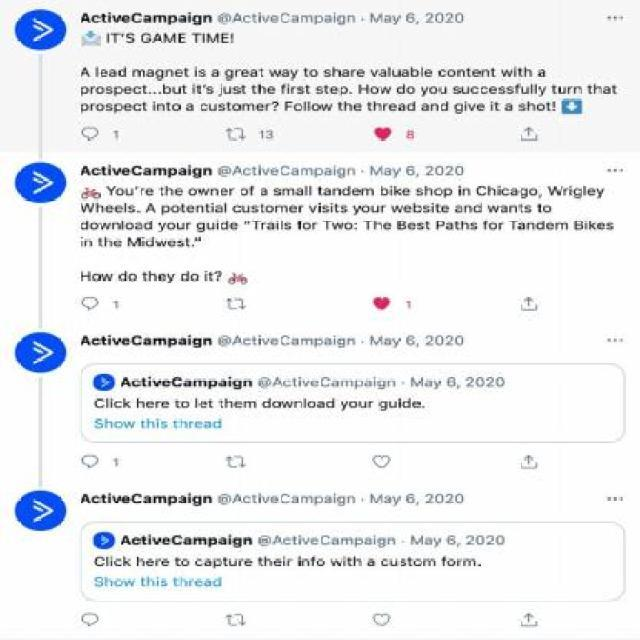0: (434, 166, 444, 177), (496, 534, 504, 546), (435, 12, 443, 23), (455, 12, 463, 23), (455, 166, 463, 177), (476, 377, 484, 388), (496, 376, 504, 387), (435, 493, 443, 504), (455, 493, 463, 504), (455, 336, 463, 346), (435, 336, 443, 344), (476, 536, 484, 544)
1: (112, 300, 119, 309), (112, 458, 119, 466), (258, 130, 264, 139), (406, 300, 412, 309), (114, 130, 118, 139)
2: (466, 534, 474, 546), (486, 534, 494, 546), (425, 12, 433, 23), (445, 12, 453, 23), (425, 166, 433, 177), (445, 166, 453, 177), (425, 493, 433, 504), (445, 493, 453, 504), (467, 377, 475, 388), (487, 376, 495, 387), (425, 336, 433, 346), (445, 336, 453, 346)
3: (265, 130, 273, 139)
6: (406, 12, 416, 23), (447, 534, 456, 546), (407, 166, 415, 177), (448, 377, 456, 388), (407, 336, 415, 346), (407, 494, 415, 504)
8: (407, 130, 415, 139)
A: (79, 166, 92, 177), (271, 377, 284, 388), (120, 376, 132, 387), (79, 494, 92, 504), (152, 33, 163, 44), (80, 67, 91, 78), (232, 166, 242, 177), (146, 202, 156, 213), (80, 336, 91, 346), (232, 336, 243, 346), (119, 536, 132, 544), (142, 14, 152, 24), (178, 14, 188, 24), (146, 68, 156, 78), (232, 494, 242, 504), (80, 13, 91, 22), (142, 168, 153, 177), (291, 14, 300, 24), (383, 14, 392, 24), (109, 68, 118, 78), (211, 68, 220, 78), (378, 68, 387, 78), (400, 68, 409, 78), (294, 187, 304, 196), (218, 537, 228, 546), (232, 13, 242, 22), (272, 536, 283, 544), (421, 102, 430, 111), (504, 103, 513, 112), (178, 168, 187, 177), (291, 167, 300, 176), (323, 167, 332, 176), (214, 204, 223, 213), (183, 537, 192, 546), (363, 537, 372, 546), (424, 537, 433, 546), (250, 68, 258, 78), (602, 86, 612, 94), (182, 379, 192, 387), (218, 379, 228, 387), (178, 496, 188, 504), (281, 70, 290, 78), (341, 70, 350, 78), (186, 102, 194, 111), (398, 102, 406, 111), (384, 168, 392, 177), (260, 187, 268, 196), (323, 187, 331, 196), (510, 188, 518, 197), (454, 204, 462, 213), (500, 204, 508, 213), (134, 222, 143, 230), (517, 222, 526, 230), (143, 338, 152, 346), (178, 338, 187, 346), (291, 338, 300, 346), (143, 495, 152, 503), (290, 495, 299, 503), (331, 538, 340, 546), (203, 558, 212, 566), (324, 15, 332, 23), (537, 70, 545, 78), (267, 222, 275, 230), (445, 222, 453, 230), (324, 338, 332, 346), (384, 338, 392, 346), (364, 379, 372, 387), (424, 379, 432, 387), (324, 495, 332, 503), (384, 496, 392, 504), (367, 558, 375, 566), (204, 578, 212, 586), (203, 421, 212, 428), (332, 379, 339, 387), (317, 401, 325, 408)
B: (162, 84, 172, 95), (398, 220, 407, 231), (574, 220, 583, 231), (380, 186, 388, 197), (414, 202, 422, 213), (411, 67, 418, 78)
C: (319, 534, 332, 546), (130, 12, 144, 23), (130, 493, 144, 504), (475, 186, 488, 197), (92, 398, 106, 408), (279, 12, 290, 23), (279, 166, 290, 177), (319, 376, 330, 387), (280, 493, 291, 504), (94, 556, 105, 567), (130, 336, 142, 346), (172, 534, 182, 546), (132, 166, 142, 177), (172, 376, 182, 387), (91, 14, 100, 24), (438, 68, 447, 78), (232, 204, 242, 213), (281, 336, 290, 346), (242, 15, 252, 23), (132, 86, 142, 94), (200, 102, 208, 111), (91, 495, 100, 503), (283, 537, 291, 546), (113, 558, 122, 566), (194, 558, 203, 566), (480, 86, 488, 94), (133, 103, 141, 111), (92, 338, 100, 346), (243, 338, 251, 346), (132, 379, 140, 387), (283, 379, 291, 387), (243, 495, 251, 503), (132, 537, 140, 545), (91, 168, 100, 175), (471, 86, 478, 94), (243, 168, 251, 175), (502, 188, 509, 196), (114, 401, 122, 408), (381, 558, 388, 566)
D: (212, 576, 222, 587), (181, 270, 190, 282), (262, 398, 272, 408), (402, 398, 412, 408), (212, 418, 222, 428), (80, 219, 89, 230), (144, 219, 153, 230), (220, 219, 229, 230), (407, 100, 415, 112), (118, 270, 126, 282), (118, 67, 126, 78), (342, 186, 350, 197), (474, 202, 482, 213), (537, 220, 545, 231), (146, 236, 154, 247), (397, 83, 405, 94), (441, 100, 448, 112), (327, 398, 335, 408)
E: (178, 32, 187, 43), (270, 14, 279, 24), (174, 68, 183, 78), (241, 68, 250, 78), (388, 102, 398, 111), (144, 187, 154, 196), (288, 204, 298, 213), (113, 238, 122, 248), (167, 238, 176, 248), (270, 168, 279, 177), (174, 188, 183, 197), (402, 188, 411, 197), (587, 188, 596, 197), (105, 204, 114, 213), (114, 204, 123, 213), (187, 204, 196, 213), (472, 68, 480, 78), (488, 86, 498, 94), (357, 68, 365, 78), (424, 69, 433, 77), (123, 86, 132, 94), (267, 86, 276, 94), (329, 86, 338, 94), (123, 103, 132, 111), (256, 103, 264, 112), (354, 102, 362, 111), (477, 102, 485, 111), (122, 167, 130, 176), (220, 188, 228, 197), (352, 188, 360, 197), (158, 273, 167, 281), (270, 338, 279, 346), (121, 495, 130, 503), (270, 495, 279, 503), (162, 537, 170, 546), (161, 558, 170, 566), (244, 558, 253, 566), (273, 558, 282, 566), (194, 579, 203, 587), (220, 33, 228, 42), (122, 15, 130, 23), (100, 70, 108, 78), (404, 205, 412, 213), (230, 222, 238, 230), (383, 222, 391, 230), (408, 222, 416, 230), (547, 222, 555, 230), (597, 222, 605, 230), (122, 338, 130, 346), (162, 379, 170, 387), (310, 379, 318, 387), (310, 538, 318, 546), (146, 558, 154, 566), (234, 401, 243, 408), (412, 401, 421, 408), (194, 421, 203, 428), (441, 204, 448, 213), (146, 401, 154, 408), (162, 401, 170, 408), (200, 401, 208, 408)
F: (285, 100, 293, 112), (280, 83, 286, 94), (514, 83, 520, 94), (296, 219, 302, 230), (482, 219, 488, 230), (311, 556, 317, 566), (250, 186, 255, 197), (442, 556, 446, 566)
G: (232, 378, 243, 391), (140, 32, 152, 43), (192, 14, 202, 26), (154, 69, 164, 80), (378, 400, 388, 411), (232, 537, 242, 548), (192, 168, 202, 178), (192, 338, 202, 348), (192, 496, 202, 506), (224, 69, 233, 80), (454, 103, 463, 114), (338, 14, 346, 26), (197, 222, 206, 232), (378, 379, 386, 390), (378, 537, 386, 548), (338, 168, 346, 178), (520, 188, 528, 198), (574, 188, 582, 198), (338, 338, 346, 348), (338, 496, 346, 506)
H: (80, 270, 91, 282), (358, 84, 369, 95), (373, 100, 381, 112), (528, 100, 536, 112), (165, 184, 173, 196), (149, 270, 157, 282), (332, 67, 340, 78), (524, 67, 532, 78), (258, 84, 266, 95), (594, 84, 602, 95), (344, 100, 352, 111), (424, 186, 432, 197), (488, 186, 496, 197), (96, 202, 104, 213), (104, 236, 112, 247), (104, 576, 112, 587), (147, 576, 155, 587), (374, 220, 382, 231), (137, 398, 145, 408), (104, 418, 112, 428), (179, 418, 187, 428), (137, 556, 145, 566), (264, 556, 272, 566), (353, 556, 361, 566), (461, 219, 468, 230), (147, 419, 155, 428), (180, 577, 188, 586), (225, 398, 232, 408)
I: (296, 376, 302, 387), (464, 100, 468, 112), (108, 164, 112, 176), (188, 334, 192, 346), (148, 534, 152, 546), (188, 166, 192, 177), (584, 219, 588, 230), (228, 376, 232, 387), (108, 492, 112, 503), (188, 493, 192, 504), (228, 534, 232, 544), (282, 556, 286, 566), (205, 270, 208, 282), (195, 67, 198, 78), (514, 67, 517, 78), (192, 84, 195, 95), (286, 84, 289, 95), (153, 100, 156, 111), (333, 166, 336, 177), (373, 376, 376, 387), (333, 493, 336, 504), (110, 556, 113, 567), (156, 577, 159, 588), (110, 398, 113, 408), (497, 187, 500, 196), (276, 220, 279, 229), (106, 33, 109, 42), (202, 33, 205, 42), (492, 100, 494, 112), (108, 334, 110, 346), (258, 334, 260, 346), (334, 334, 336, 346), (298, 534, 300, 546), (108, 12, 110, 23), (188, 12, 190, 23), (258, 12, 260, 23), (334, 12, 336, 23), (258, 166, 260, 177), (390, 186, 392, 197), (458, 186, 460, 197), (212, 202, 214, 213), (318, 202, 320, 213), (330, 202, 332, 213), (432, 202, 434, 213), (216, 220, 218, 231), (570, 186, 572, 197), (148, 376, 150, 387), (258, 493, 260, 504), (344, 556, 346, 567), (398, 398, 400, 408), (156, 418, 158, 428), (298, 556, 300, 566), (142, 237, 144, 246), (374, 536, 376, 544), (81, 236, 82, 247)
J: (218, 84, 222, 96)
K: (589, 219, 597, 230), (123, 398, 131, 408), (394, 187, 402, 196), (123, 557, 131, 566)
L: (304, 187, 308, 196), (304, 100, 307, 112), (307, 100, 310, 112), (420, 67, 423, 78), (530, 84, 533, 95), (534, 84, 537, 95), (583, 186, 586, 197), (124, 202, 127, 213), (224, 202, 227, 213), (304, 397, 307, 408), (195, 398, 198, 408), (280, 220, 283, 229), (105, 557, 108, 566), (96, 67, 98, 78), (388, 67, 390, 78), (310, 187, 312, 196), (122, 220, 124, 229), (106, 398, 108, 407)
M: (410, 534, 424, 546), (369, 12, 383, 23), (206, 33, 220, 44), (410, 376, 424, 387), (153, 14, 167, 24), (370, 166, 382, 177), (151, 337, 167, 345), (153, 495, 169, 503), (274, 204, 288, 213), (162, 34, 176, 43), (127, 238, 141, 247), (370, 336, 382, 346), (300, 15, 314, 23), (132, 69, 146, 77), (242, 103, 256, 111), (153, 168, 169, 175), (300, 168, 314, 176), (282, 188, 296, 196), (554, 222, 568, 230), (300, 338, 314, 346), (193, 379, 207, 387), (340, 379, 354, 387), (300, 496, 314, 504), (192, 538, 206, 546), (422, 558, 436, 566), (462, 558, 476, 566), (370, 494, 382, 503), (361, 188, 374, 196), (243, 401, 257, 408), (340, 538, 352, 546)
N: (203, 14, 212, 24), (203, 168, 212, 177), (508, 205, 518, 213), (164, 70, 173, 78), (210, 188, 219, 196), (332, 188, 340, 197), (194, 205, 203, 213), (84, 239, 93, 247), (203, 338, 212, 346), (243, 379, 252, 387), (243, 537, 252, 545), (301, 558, 310, 566), (203, 495, 212, 503), (348, 15, 356, 23), (458, 69, 466, 77), (574, 86, 582, 94), (157, 103, 165, 111), (464, 205, 472, 213), (112, 222, 120, 230), (527, 222, 535, 230), (348, 338, 356, 346), (388, 379, 396, 387), (388, 537, 396, 545), (348, 495, 356, 503), (482, 69, 489, 77), (431, 103, 438, 111), (348, 168, 356, 175), (462, 188, 470, 195), (294, 401, 302, 408)
O: (447, 68, 456, 78), (310, 68, 318, 78), (428, 86, 438, 94), (232, 103, 242, 111), (264, 205, 274, 213), (302, 222, 312, 230), (128, 273, 138, 281), (190, 272, 198, 282), (96, 103, 104, 112), (172, 102, 180, 111), (171, 205, 180, 213), (125, 222, 134, 230), (180, 558, 189, 566), (447, 558, 456, 566), (114, 578, 123, 586), (528, 188, 538, 195), (96, 86, 104, 94), (407, 86, 415, 94), (294, 103, 302, 111), (312, 103, 320, 111), (537, 103, 545, 111), (189, 188, 197, 196), (543, 205, 551, 213), (90, 222, 98, 230), (344, 222, 352, 230), (489, 222, 497, 230), (92, 273, 100, 281), (317, 558, 325, 566), (414, 558, 422, 566), (116, 188, 124, 196), (434, 188, 443, 195), (181, 401, 190, 408), (307, 401, 316, 408), (114, 421, 123, 428), (371, 86, 378, 94), (240, 188, 248, 195), (362, 205, 369, 213), (168, 222, 175, 230), (272, 401, 280, 408), (349, 401, 357, 408)
P: (168, 14, 178, 26), (208, 378, 218, 389), (208, 537, 218, 548), (168, 338, 178, 348), (114, 86, 123, 97), (168, 167, 177, 178), (168, 496, 177, 506), (114, 103, 122, 114), (314, 167, 322, 178), (340, 86, 348, 97), (80, 104, 89, 113), (314, 496, 322, 506), (444, 188, 452, 198), (80, 87, 88, 96), (161, 206, 170, 214), (314, 338, 322, 347), (354, 538, 362, 547), (437, 221, 445, 230), (314, 16, 322, 24), (354, 380, 362, 388), (214, 560, 222, 568)
R: (235, 68, 240, 78), (90, 86, 96, 94), (291, 86, 297, 94), (567, 86, 573, 94), (90, 103, 96, 111), (140, 188, 146, 196), (298, 205, 304, 213), (380, 205, 386, 213), (238, 558, 244, 566), (286, 558, 292, 566), (456, 558, 462, 566), (188, 579, 194, 587), (264, 103, 270, 111), (154, 401, 160, 408), (383, 103, 388, 111), (186, 222, 191, 230), (313, 222, 318, 230), (499, 222, 504, 230), (189, 420, 194, 428), (155, 558, 160, 566), (230, 188, 235, 195), (563, 188, 568, 195), (369, 401, 374, 408), (352, 69, 356, 77), (262, 222, 266, 230)
S: (126, 32, 136, 43), (94, 418, 103, 429), (95, 576, 104, 587), (198, 68, 206, 78), (177, 238, 185, 248), (105, 102, 113, 111), (518, 102, 526, 111), (416, 187, 424, 196), (128, 204, 136, 213), (252, 204, 260, 213), (422, 204, 430, 213), (323, 69, 331, 77), (105, 86, 113, 94), (206, 86, 214, 94), (232, 86, 240, 94), (297, 86, 305, 94), (453, 86, 461, 94), (498, 86, 506, 94), (506, 86, 514, 94), (340, 205, 348, 213), (524, 205, 532, 213), (284, 222, 292, 230), (417, 222, 425, 230), (470, 222, 478, 230), (606, 222, 614, 230), (399, 558, 407, 566), (160, 579, 168, 587), (218, 103, 225, 111), (273, 188, 281, 195), (322, 205, 329, 213), (160, 421, 168, 428), (316, 86, 322, 94)
T: (322, 220, 333, 231), (110, 34, 121, 43), (362, 220, 373, 229), (252, 220, 260, 231), (192, 33, 200, 42), (510, 220, 518, 229), (101, 12, 107, 23), (252, 336, 258, 346), (141, 536, 147, 546), (174, 398, 180, 408), (258, 68, 264, 77), (303, 68, 309, 77), (466, 68, 472, 77), (490, 68, 496, 77), (517, 68, 523, 77), (241, 85, 247, 94), (366, 102, 372, 111), (494, 102, 500, 111), (101, 167, 107, 176), (252, 167, 258, 176), (158, 187, 164, 196), (316, 187, 322, 196), (180, 204, 186, 213), (204, 204, 210, 213), (334, 204, 340, 213), (536, 203, 542, 212), (184, 238, 190, 247), (101, 494, 107, 503), (174, 557, 180, 566), (222, 557, 228, 566), (257, 557, 263, 566), (346, 557, 352, 566), (407, 557, 413, 566), (454, 221, 460, 230), (98, 238, 104, 247), (252, 14, 258, 22), (251, 86, 257, 94), (586, 86, 592, 94), (226, 102, 232, 110), (101, 337, 107, 345), (292, 536, 298, 544), (140, 578, 146, 586), (172, 578, 178, 586), (140, 420, 146, 428), (208, 400, 214, 408), (142, 378, 148, 386), (292, 378, 298, 386), (142, 102, 147, 111), (166, 102, 171, 111), (545, 102, 550, 111), (259, 204, 264, 213), (435, 204, 440, 213), (519, 203, 524, 212), (252, 494, 257, 503), (425, 221, 430, 230), (142, 86, 147, 94), (196, 86, 201, 94), (305, 86, 310, 94), (143, 272, 148, 280), (209, 272, 214, 280), (173, 420, 178, 428), (219, 400, 224, 408), (184, 68, 188, 77), (338, 102, 342, 111), (324, 85, 328, 94), (182, 86, 186, 94), (552, 86, 556, 94), (612, 86, 616, 94)
U: (242, 204, 250, 213), (392, 69, 400, 77), (172, 86, 180, 94), (224, 87, 232, 95), (439, 86, 447, 94), (520, 86, 528, 94), (558, 86, 566, 94), (209, 103, 217, 111), (125, 188, 133, 196), (177, 222, 185, 230), (207, 222, 215, 230), (229, 558, 237, 566), (390, 558, 398, 566), (462, 86, 469, 94), (372, 205, 379, 213), (359, 401, 367, 408), (389, 401, 397, 408)
V: (112, 167, 121, 176), (112, 14, 120, 24), (370, 68, 378, 78), (262, 168, 270, 177), (308, 204, 316, 213), (112, 495, 121, 503), (261, 495, 270, 503), (262, 15, 270, 23), (468, 103, 476, 111), (112, 338, 120, 346), (262, 338, 270, 346), (153, 379, 161, 387), (302, 379, 310, 387), (153, 537, 161, 545), (302, 538, 310, 546)
W: (548, 186, 564, 197), (100, 272, 114, 282), (80, 203, 94, 212), (486, 204, 499, 213), (154, 239, 168, 247), (122, 579, 136, 587), (268, 69, 281, 77), (501, 69, 514, 77), (379, 86, 392, 94), (391, 205, 404, 213), (99, 222, 112, 230), (331, 222, 344, 230), (280, 401, 294, 408), (122, 421, 136, 428), (320, 103, 332, 111), (198, 188, 210, 196), (330, 558, 342, 566)
Y: (105, 186, 116, 197), (167, 273, 176, 284), (433, 379, 441, 390), (433, 537, 441, 548), (290, 69, 298, 80), (352, 206, 360, 217), (392, 168, 400, 178), (597, 188, 605, 198), (158, 222, 166, 232), (392, 338, 400, 348), (393, 496, 401, 506), (421, 86, 428, 97), (341, 400, 348, 411), (538, 87, 546, 96), (392, 16, 400, 24)
